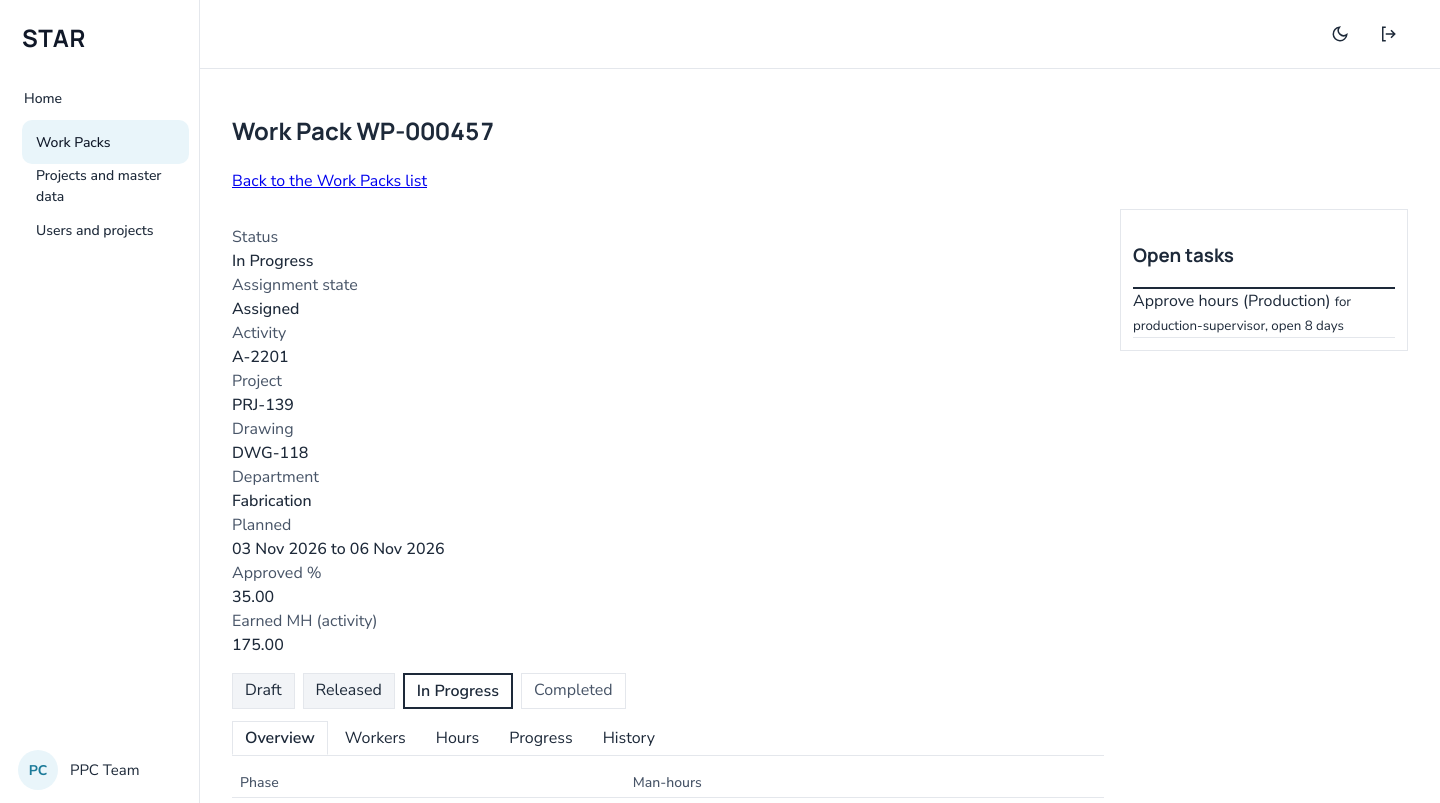
WorkPackDetailPage › theHistoryTabShowsTheChanges
Expected: the element showing "Overview Workers Hours Progress History" is shown, [232,721,1104,756]
Click the tab "History" at (629, 738), box [590,721,668,755]
(page scrolled)
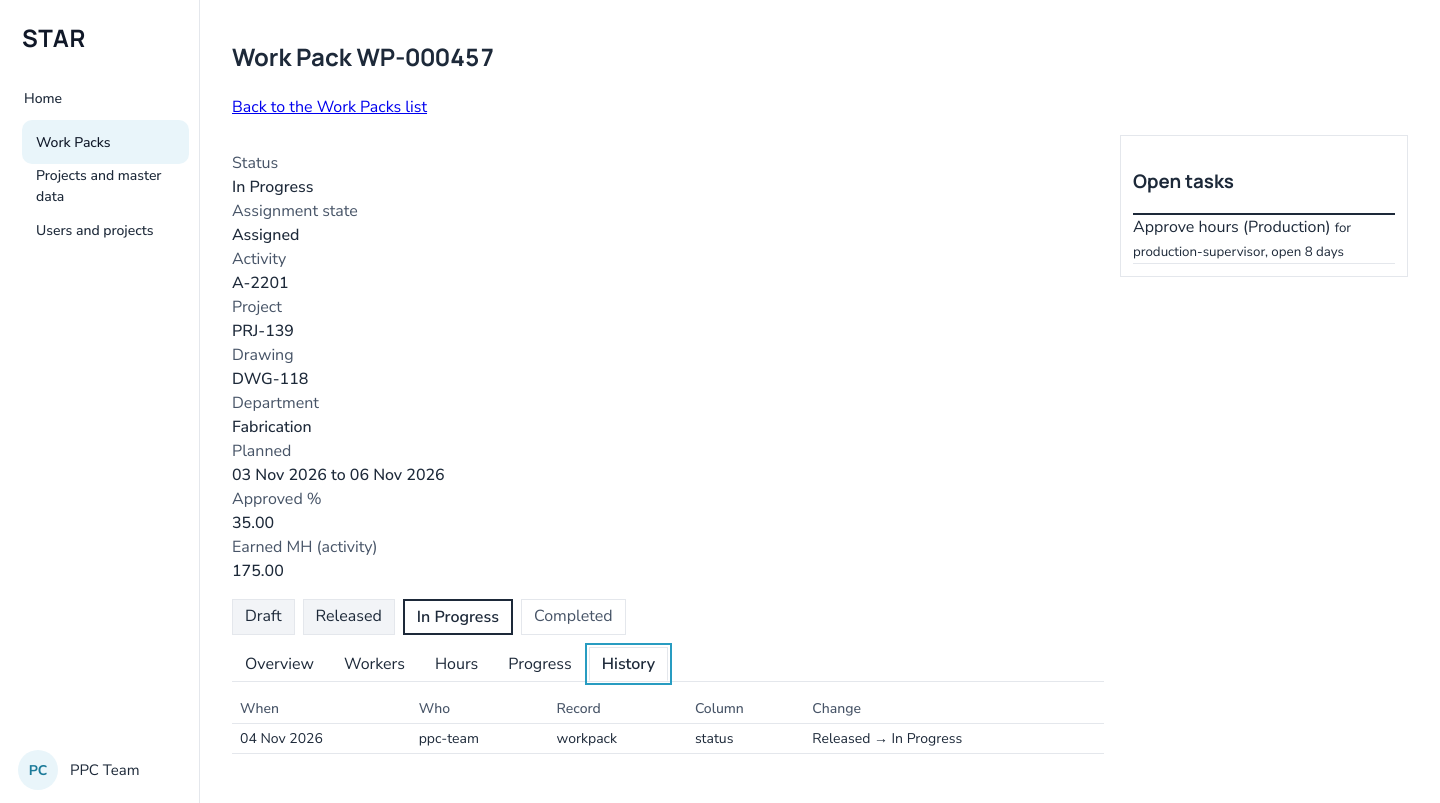
Expected: the text "status" is shown, [687,723,804,753]
Expected: the text "Released → In Progress" is shown, [804,723,1104,753]
